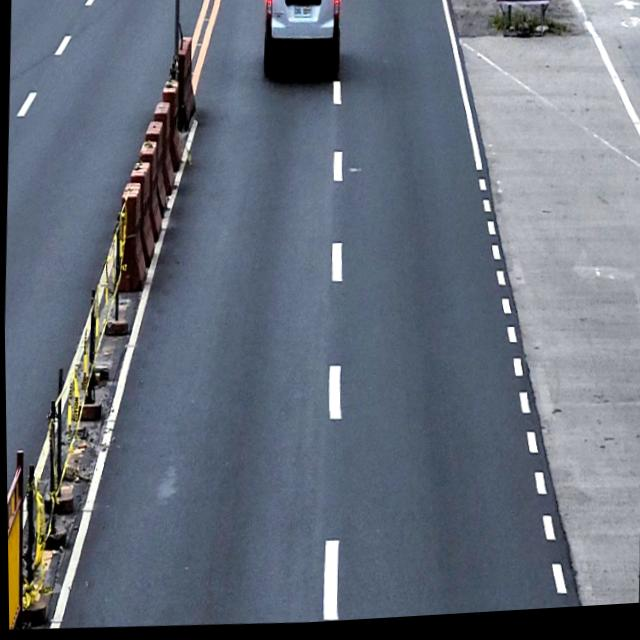Car: (260, 0, 342, 84)
License-Plate: (293, 7, 312, 22)
